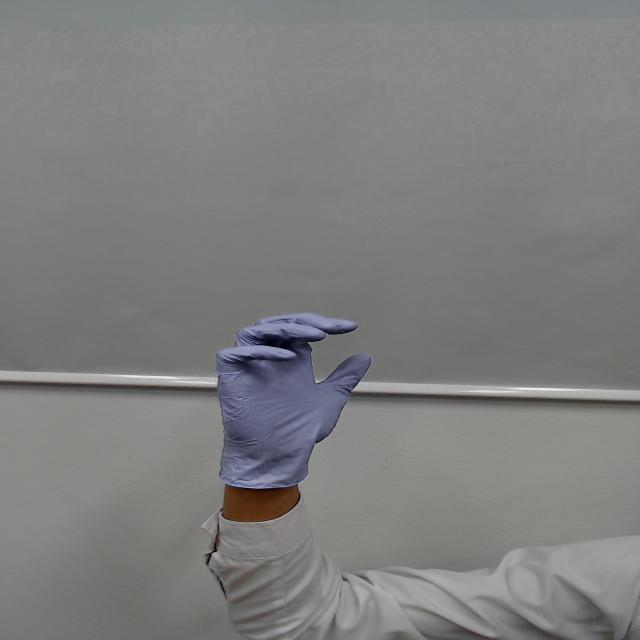glove: (197, 306, 381, 439)
